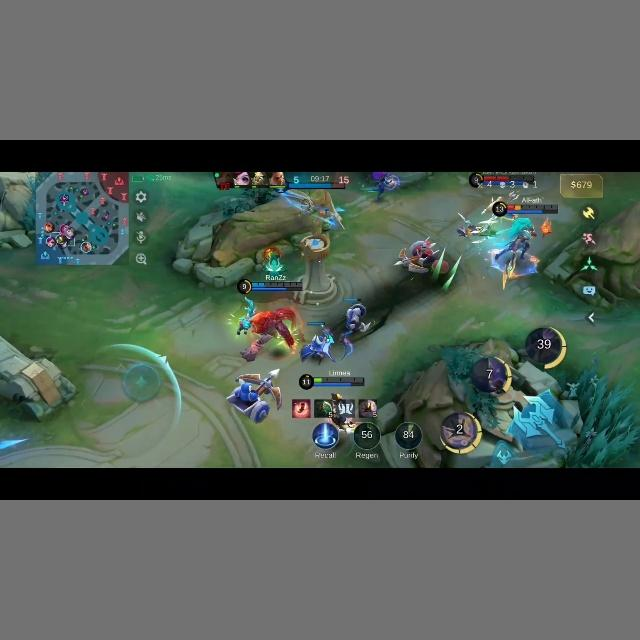hp_enemy: (492, 201, 558, 218), (468, 174, 532, 187)
hp_self: (297, 374, 365, 389), (248, 281, 303, 291), (307, 321, 328, 325)
minion_ally: (224, 372, 280, 401), (300, 330, 335, 365), (342, 301, 370, 336)
minion_enemy: (399, 237, 444, 276)
